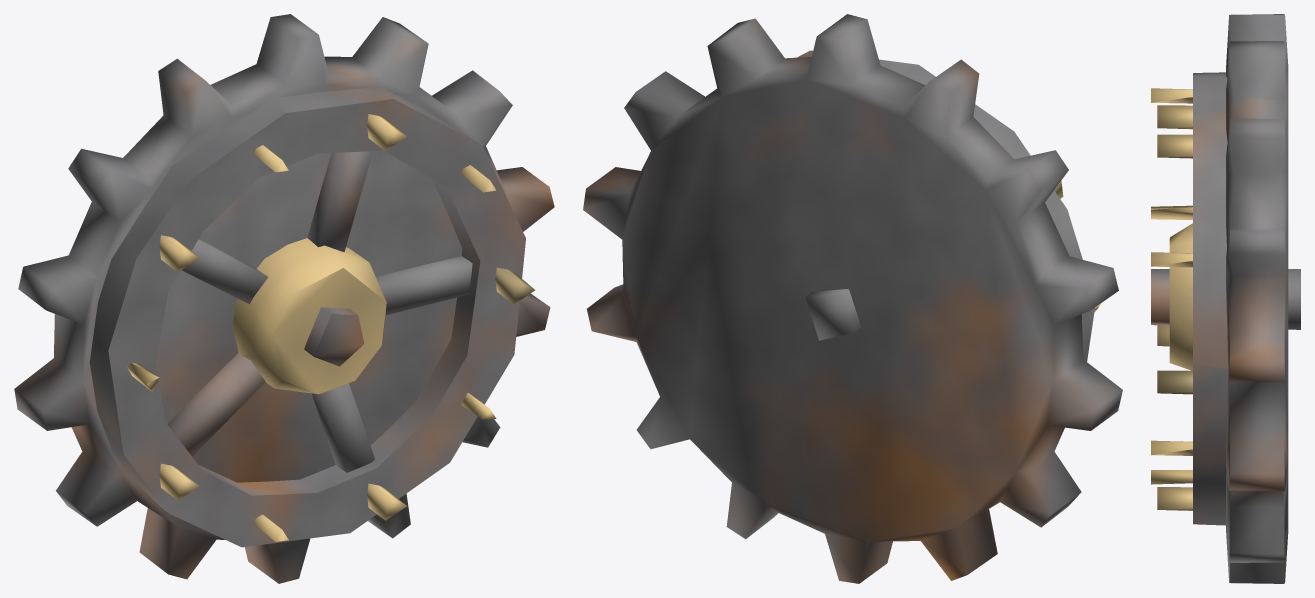
Rendered from gear_lod1.gltf.
3 renders of one model, left to right at view 1: azimuth 30°, elevation 25°; view 2: azimuth 150°, elevation 25°; view 3: azimuth 270°, elevation 25°, orthographic. The views are drawn at different scales.
Visible parts, largest first — view 1: gear_LOD1; view 2: gear_LOD1; view 3: gear_LOD1.
Part boxes in pixels (x1,y1,x2,y2): gear_LOD1: (14,14,554,583); gear_LOD1: (583,14,1122,583); gear_LOD1: (1151,14,1300,583).
Bounding box in the file's own units: 1.17 × 1.19 × 0.312.
1 material, 1 textured.
